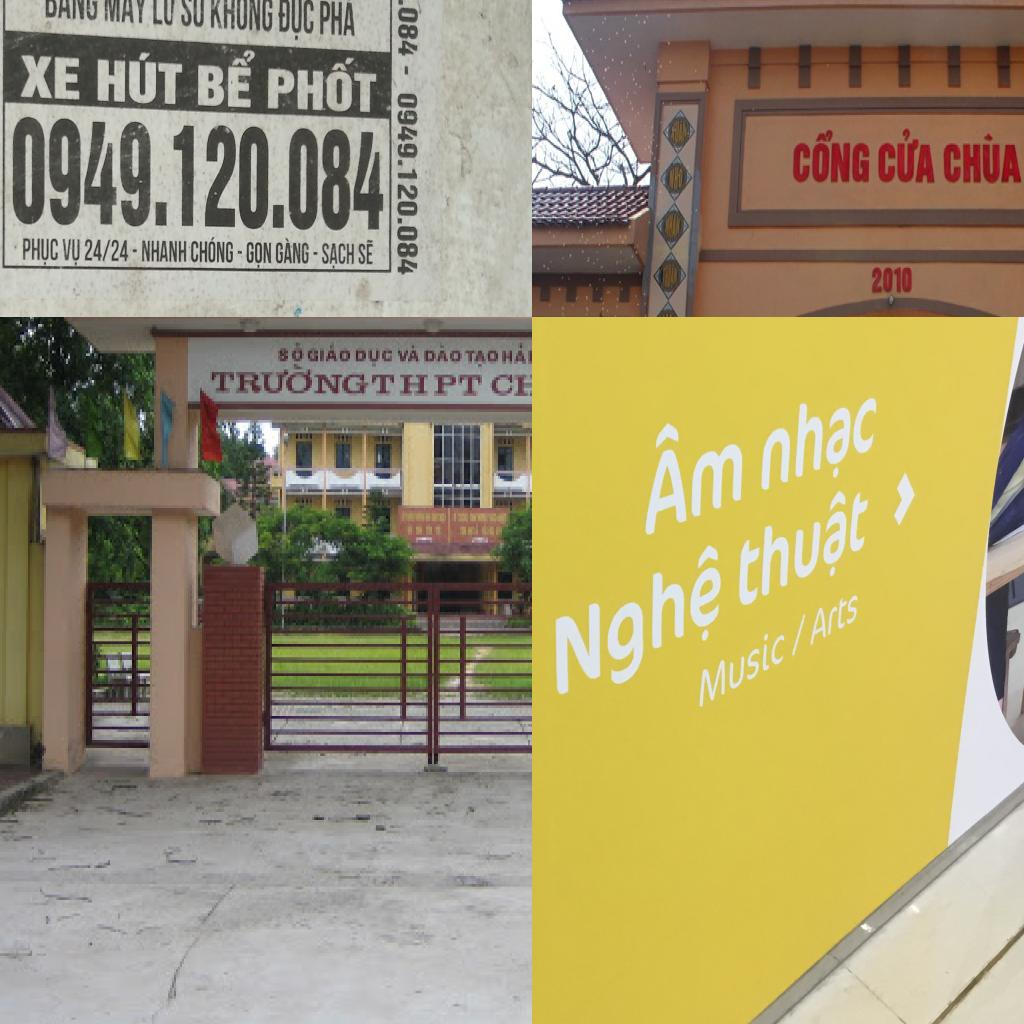text: (6, 115, 386, 231), (554, 537, 722, 721), (737, 474, 872, 625), (760, 385, 880, 508), (644, 420, 745, 540), (698, 619, 790, 711), (264, 49, 379, 116), (208, 362, 370, 402), (93, 46, 187, 111), (941, 131, 1024, 185), (792, 131, 872, 187), (193, 46, 258, 112), (370, 370, 486, 402), (17, 51, 82, 106), (876, 130, 938, 185), (208, 0, 272, 35), (274, 0, 314, 43), (393, 0, 421, 60), (186, 234, 234, 267), (138, 236, 187, 268), (317, 0, 358, 38), (488, 366, 532, 401), (82, 235, 130, 267), (17, 235, 59, 271), (272, 235, 312, 272), (871, 266, 914, 298), (100, 0, 147, 29), (306, 340, 352, 367), (317, 239, 355, 271), (41, 0, 98, 19), (352, 346, 396, 370), (243, 236, 274, 268), (424, 342, 464, 366), (464, 346, 502, 370), (355, 238, 380, 274), (58, 235, 82, 271), (179, 0, 206, 31), (150, 0, 177, 30), (502, 342, 532, 369), (278, 340, 306, 364), (398, 342, 422, 366), (663, 214, 683, 241), (670, 120, 688, 146), (668, 167, 685, 193)
